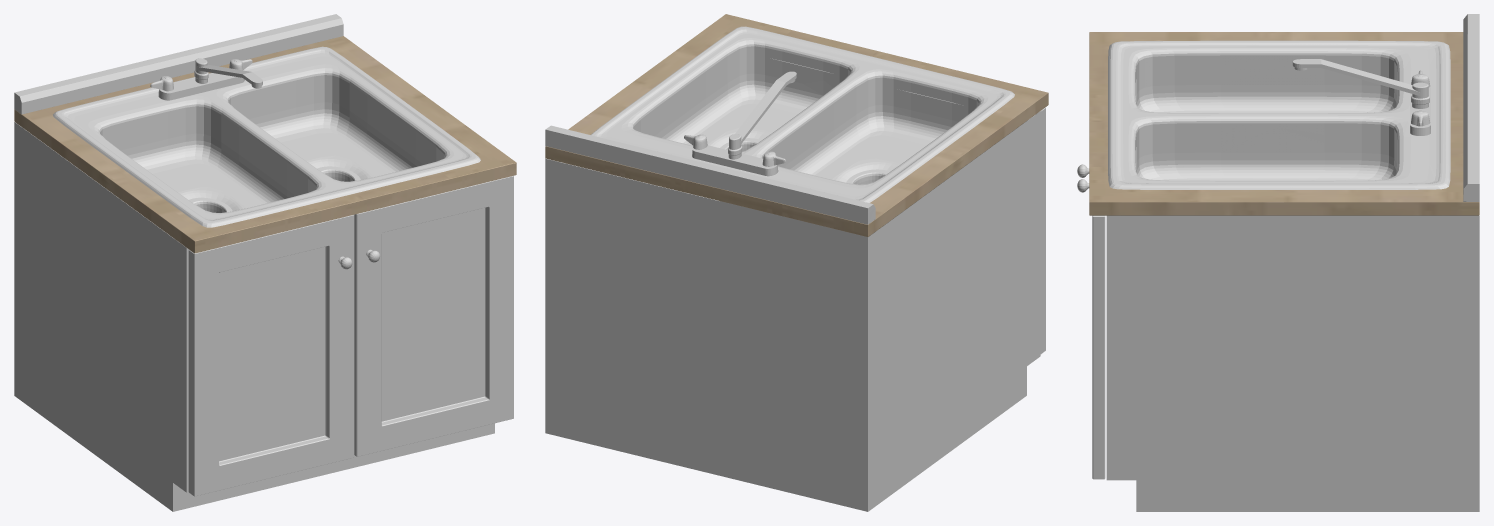
The model's file is sh-bsby-kitchen-sink.glb.
3 renders of one model, left to right at view 1: azimuth 30°, elevation 25°; view 2: azimuth 150°, elevation 25°; view 3: azimuth 270°, elevation 25°, orthographic. The views are drawn at different scales.
Visible parts, largest first — view 1: Door-and-Drawers-Right.002_Cube.038, Double_sink, Worktop-Right.002_Cube.037, Plane.001_Plane.017, Kitchen_faucet; view 2: Door-and-Drawers-Right.002_Cube.038, Double_sink, Worktop-Right.002_Cube.037, Plane.001_Plane.017, Kitchen_faucet; view 3: Door-and-Drawers-Right.002_Cube.038, Double_sink, Worktop-Right.002_Cube.037, Plane.001_Plane.017, Kitchen_faucet.
Boxes of the visible parts, left/top/right/bottom form: Door-and-Drawers-Right.002_Cube.038: left=14, top=122, right=513, bottom=511; Double_sink: left=53, top=46, right=480, bottom=227; Worktop-Right.002_Cube.037: left=14, top=36, right=516, bottom=253; Plane.001_Plane.017: left=14, top=14, right=343, bottom=114; Kitchen_faucet: left=150, top=58, right=262, bottom=100; Door-and-Drawers-Right.002_Cube.038: left=545, top=58, right=1045, bottom=511; Double_sink: left=591, top=26, right=1014, bottom=202; Worktop-Right.002_Cube.037: left=545, top=14, right=1048, bottom=236; Plane.001_Plane.017: left=545, top=125, right=875, bottom=224; Kitchen_faucet: left=684, top=71, right=796, bottom=176; Door-and-Drawers-Right.002_Cube.038: left=1092, top=79, right=1479, bottom=511; Double_sink: left=1108, top=40, right=1450, bottom=189; Worktop-Right.002_Cube.037: left=1089, top=32, right=1479, bottom=215; Plane.001_Plane.017: left=1463, top=14, right=1479, bottom=201; Kitchen_faucet: left=1292, top=59, right=1430, bottom=135.
Size of the model in its own units: 1 by 1 by 1.
Materials: 6 (1 with a texture image).
